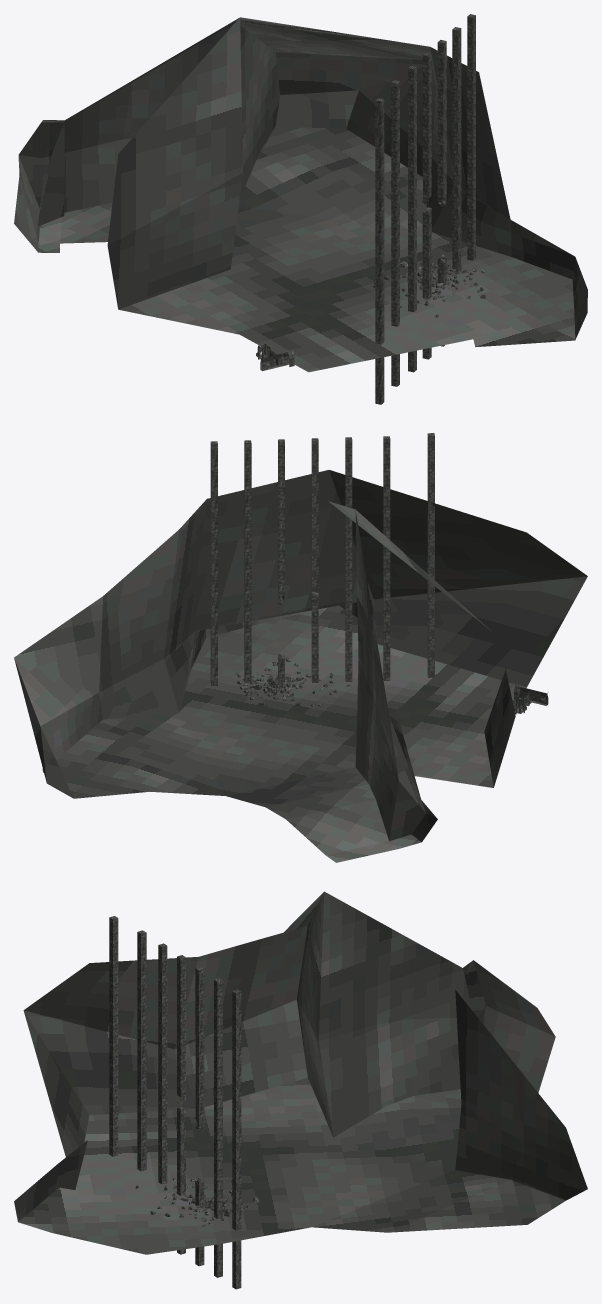
The model's file is stylizedDungeon.glb.
The picture shows the model from 3 angles, top to bottom: view 1: azimuth 30°, elevation 25°; view 2: azimuth 150°, elevation 25°; view 3: azimuth 270°, elevation 25°; orthographic projection. The views are drawn at different scales.
Parts seen in each view (by area): view 1: cave-col, pillars-col, rocks-col, hallway1-col; view 2: cave-col, pillars-col, rocks-col; view 3: cave-col, pillars-col, rocks-col.
Part boxes in pixels (box(x1,y1,x2,y2)): cave-col: box(14, 17, 587, 372); pillars-col: box(375, 14, 475, 404); rocks-col: box(373, 261, 485, 317); hallway1-col: box(260, 348, 294, 371); cave-col: box(14, 470, 587, 862); pillars-col: box(210, 433, 434, 685); rocks-col: box(235, 656, 350, 707); cave-col: box(14, 891, 587, 1254); pillars-col: box(109, 916, 241, 1289); rocks-col: box(135, 1178, 259, 1226).
Bounding box in the file's own units: 364 × 257 × 436.
1 material, 1 textured.
